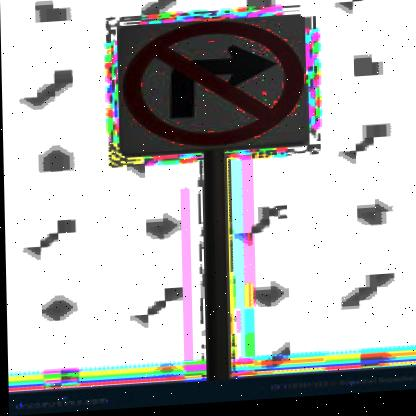No right turn: (106, 19, 312, 157)
